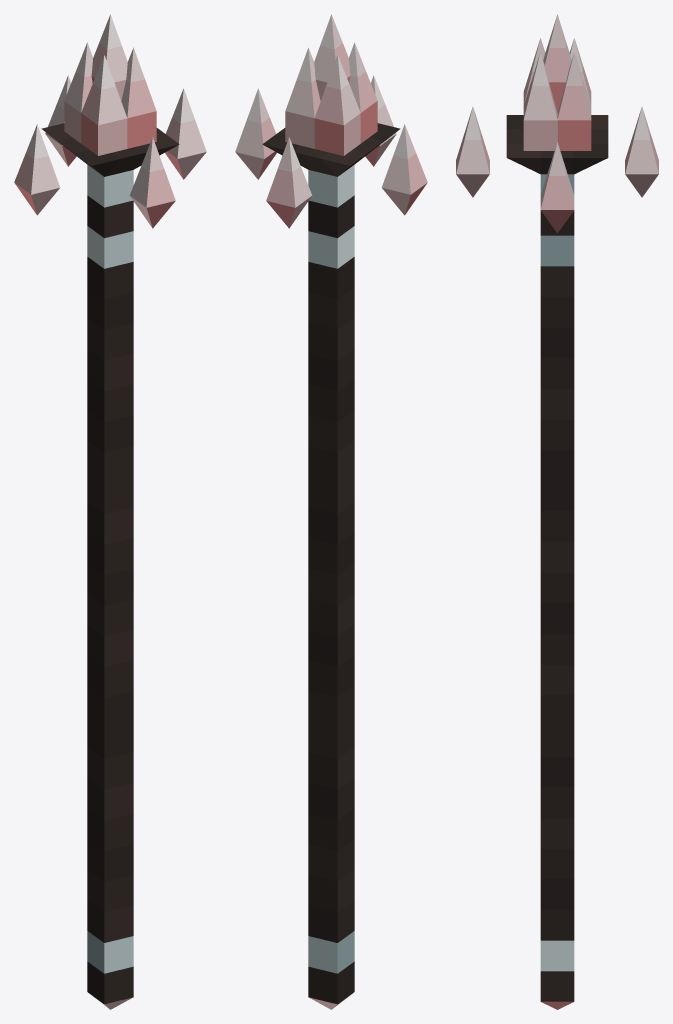
Rendered from staff_aum.obj.
3 renders of one model, left to right at view 1: azimuth 30°, elevation 25°; view 2: azimuth 150°, elevation 25°; view 3: azimuth 270°, elevation 25°, orthographic.
Visible parts, largest first — view 1: STAFF_VAR3_Cube.009; view 2: STAFF_VAR3_Cube.009; view 3: STAFF_VAR3_Cube.009.
Boxes of the visible parts, bbox=[...] form: STAFF_VAR3_Cube.009: bbox=[14, 14, 206, 1009]; STAFF_VAR3_Cube.009: bbox=[235, 14, 427, 1009]; STAFF_VAR3_Cube.009: bbox=[456, 14, 658, 1009].
Bounding box in the file's own units: 0.375 × 2.03 × 0.375.
